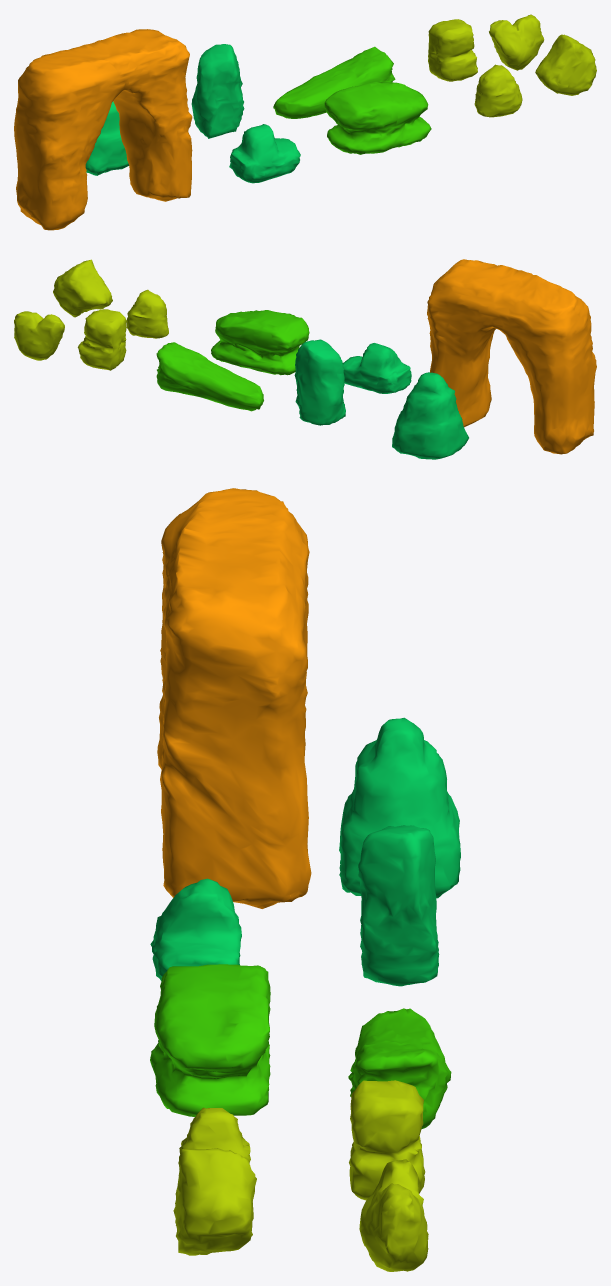
Rendered from big rocks_1.fbx.
3 renders of one model, top to bottom at view 1: azimuth 30°, elevation 25°; view 2: azimuth 150°, elevation 25°; view 3: azimuth 270°, elevation 25°, orthographic. The views are drawn at different scales.
Parts seen in each view (by area): view 1: 7, 4, 1, 2, 3, 5, 6, 10, 8, 9; view 2: 7, 4, 9, 2, 1, 3, 6, 5, 10, 8; view 3: 7, 4, 9, 1, 5, 6, 2, 3, 10, 8.
Part boxes in pixels (<box>): 7: <box>14,29,192,230</box>; 4: <box>324,81,431,154</box>; 1: <box>191,44,244,138</box>; 2: <box>273,46,395,118</box>; 3: <box>229,124,300,183</box>; 5: <box>535,34,596,95</box>; 6: <box>428,19,477,81</box>; 10: <box>489,14,544,70</box>; 8: <box>474,64,522,117</box>; 9: <box>85,101,129,175</box>; 7: <box>427,259,596,454</box>; 4: <box>211,310,309,375</box>; 9: <box>392,372,468,459</box>; 2: <box>156,342,263,411</box>; 1: <box>294,339,345,425</box>; 3: <box>342,343,411,393</box>; 6: <box>77,309,126,370</box>; 5: <box>53,259,112,317</box>; 10: <box>14,311,64,360</box>; 8: <box>126,289,168,338</box>; 7: <box>157,488,311,908</box>; 4: <box>150,964,270,1116</box>; 9: <box>339,717,460,898</box>; 1: <box>358,825,439,986</box>; 5: <box>173,1148,256,1255</box>; 6: <box>349,1080,425,1200</box>; 2: <box>348,1008,451,1129</box>; 3: <box>150,878,241,980</box>; 10: <box>359,1159,428,1271</box>; 8: <box>178,1107,250,1164</box>.
Size of the model in its own units: 3132 by 869 by 790.
